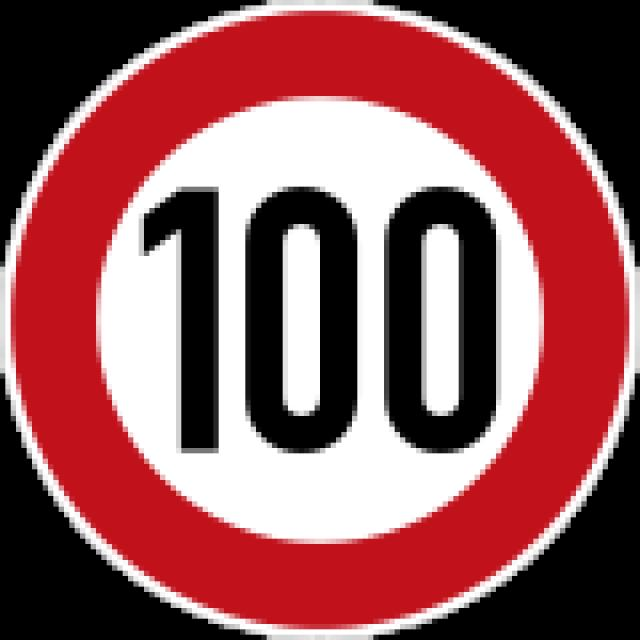Speed Limit -100-: (124, 179, 535, 463)
